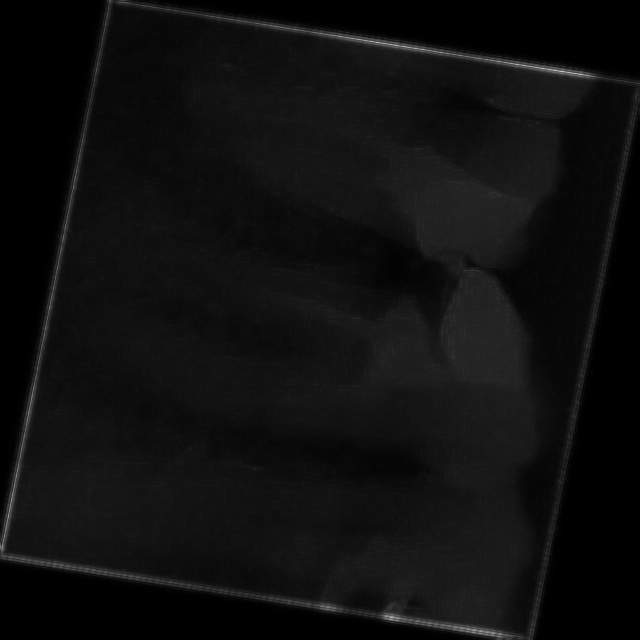Class 1- complete endodontic treatment: (93, 202, 585, 492), (164, 39, 604, 289)
